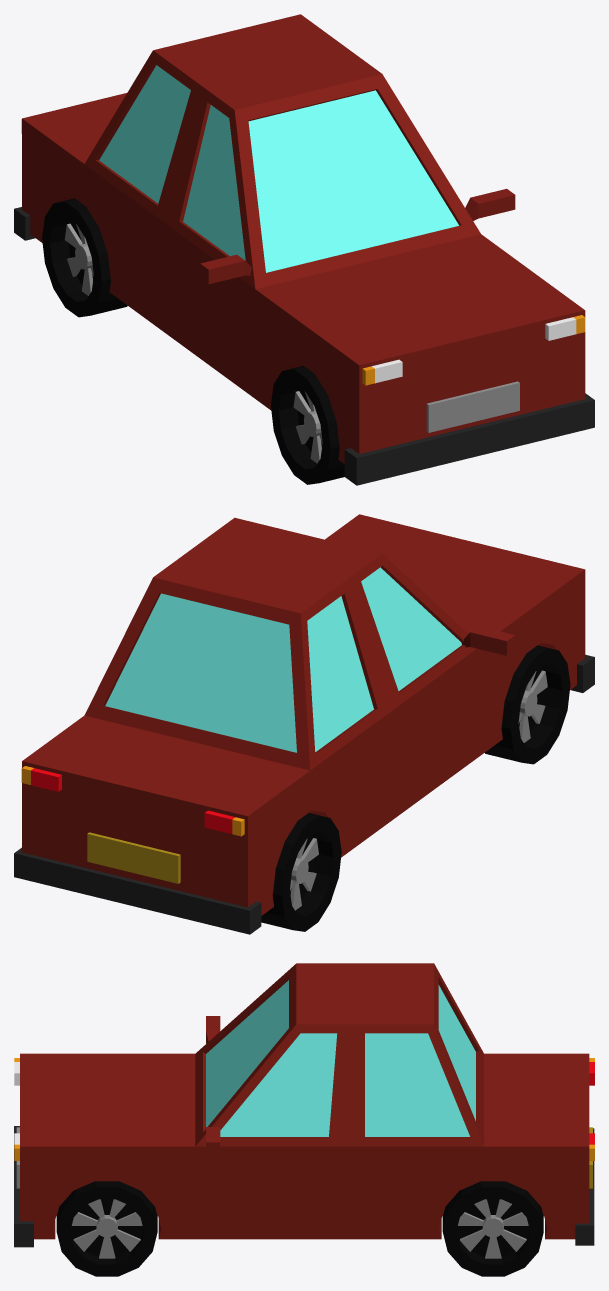
File: car.fbx
The picture shows the model from 3 angles, top to bottom: view 1: azimuth 30°, elevation 25°; view 2: azimuth 150°, elevation 25°; view 3: azimuth 270°, elevation 25°; orthographic projection. The views are drawn at different scales.
Parts seen in each view (by area): view 1: Body, BR Wheel, FR Wheel, Front Number Plate, Side Mirrors, Front Lights; view 2: Body, FR Wheel, BR Wheel, Back Number Plate, Back Lights, Side Mirrors; view 3: Body, FL Wheel, BL Wheel, Side Mirrors.
Part boxes in pixels (<box>): Body: <box>14,14,594,485</box>; BR Wheel: <box>42,198,127,317</box>; FR Wheel: <box>270,365,344,484</box>; Front Number Plate: <box>426,381,519,432</box>; Side Mirrors: <box>200,188,515,284</box>; Front Lights: <box>362,315,585,385</box>; Body: <box>14,514,594,934</box>; FR Wheel: <box>485,645,570,764</box>; BR Wheel: <box>261,813,341,931</box>; Back Number Plate: <box>87,832,180,883</box>; Back Lights: <box>21,766,244,836</box>; Side Mirrors: <box>461,626,515,655</box>; Body: <box>14,963,594,1247</box>; FL Wheel: <box>56,1181,157,1276</box>; BL Wheel: <box>442,1181,543,1276</box>; Side Mirrors: <box>206,1016,220,1154</box>.
Bounding box in the file's own units: 272 × 234 × 528.
